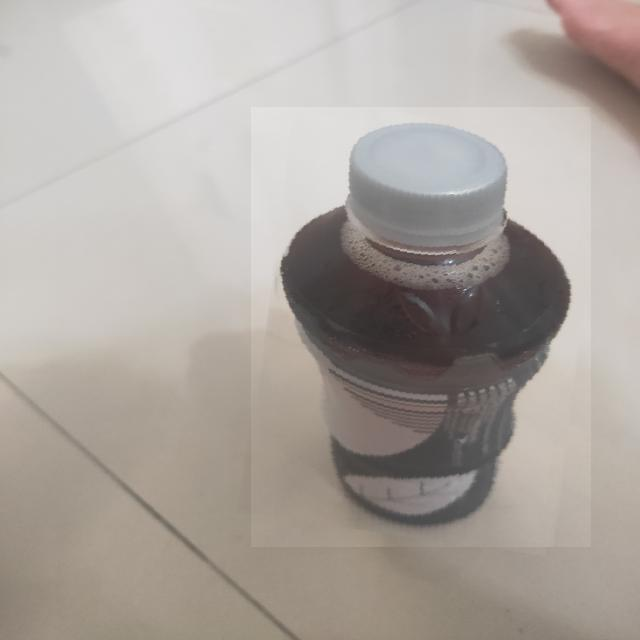ChaLiWong_WhiteOolong: (251, 107, 591, 547)
